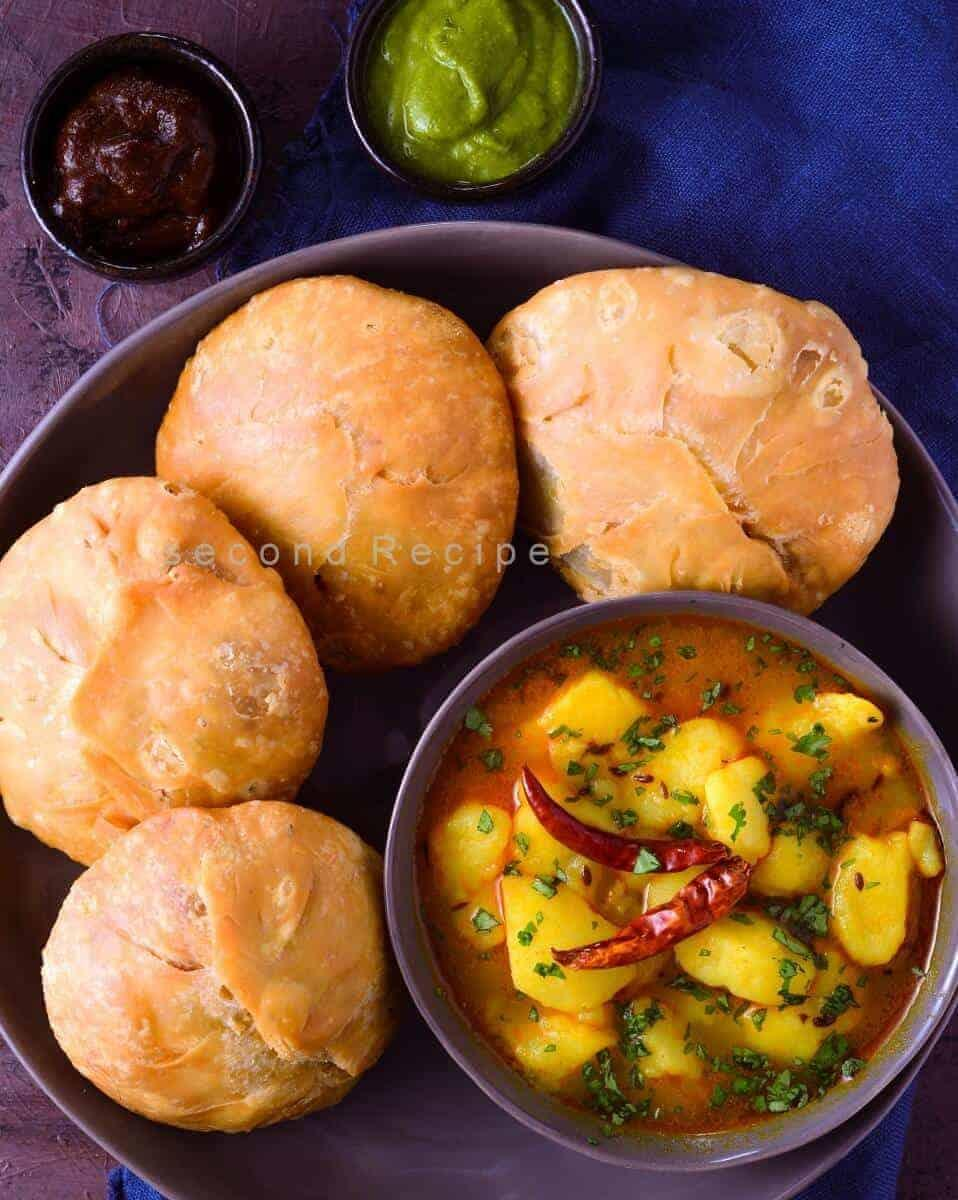aloo sabji: (488, 681, 925, 1085)
